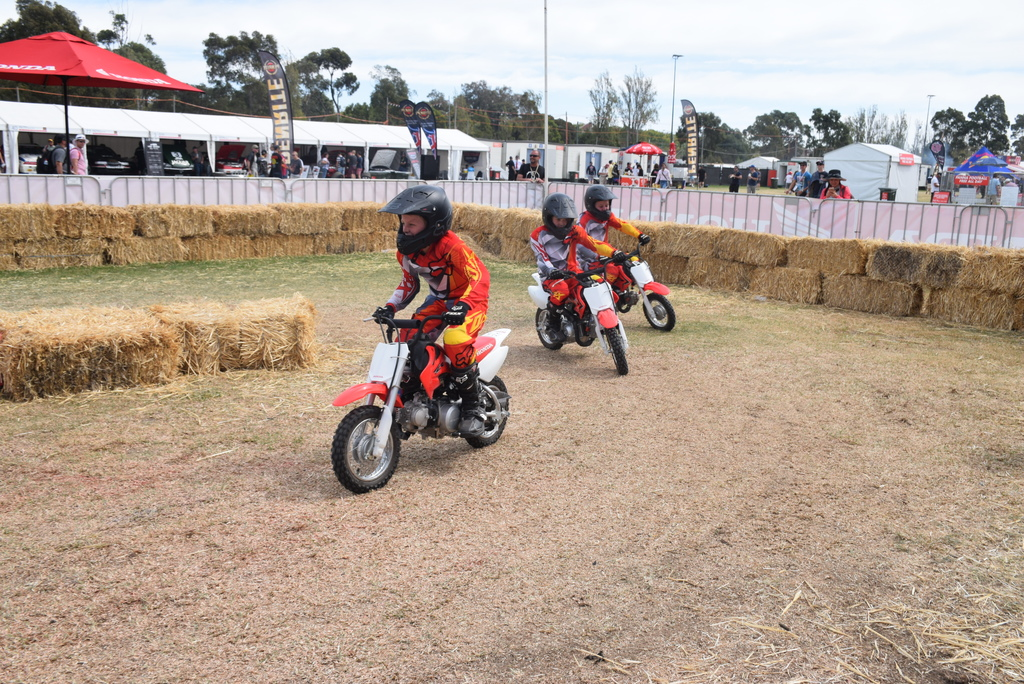Person: (375, 183, 490, 434), (530, 190, 625, 321), (573, 182, 648, 297), (518, 148, 545, 180)
